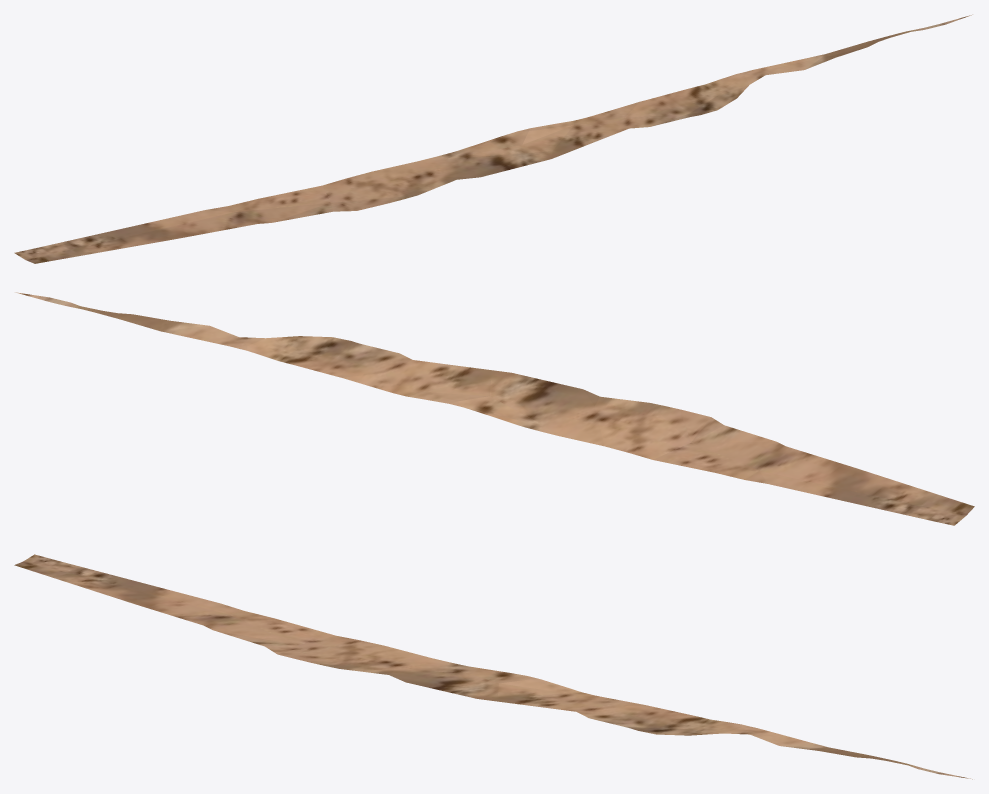
3 views of the same model, one above another, from view 1: azimuth 30°, elevation 25°; view 2: azimuth 150°, elevation 25°; view 3: azimuth 330°, elevation 25° (orthographic). The views are drawn at different scales.
Size of the model in its own units: 1.81 by 0.022 by 0.1544.
1 material, 1 textured.
